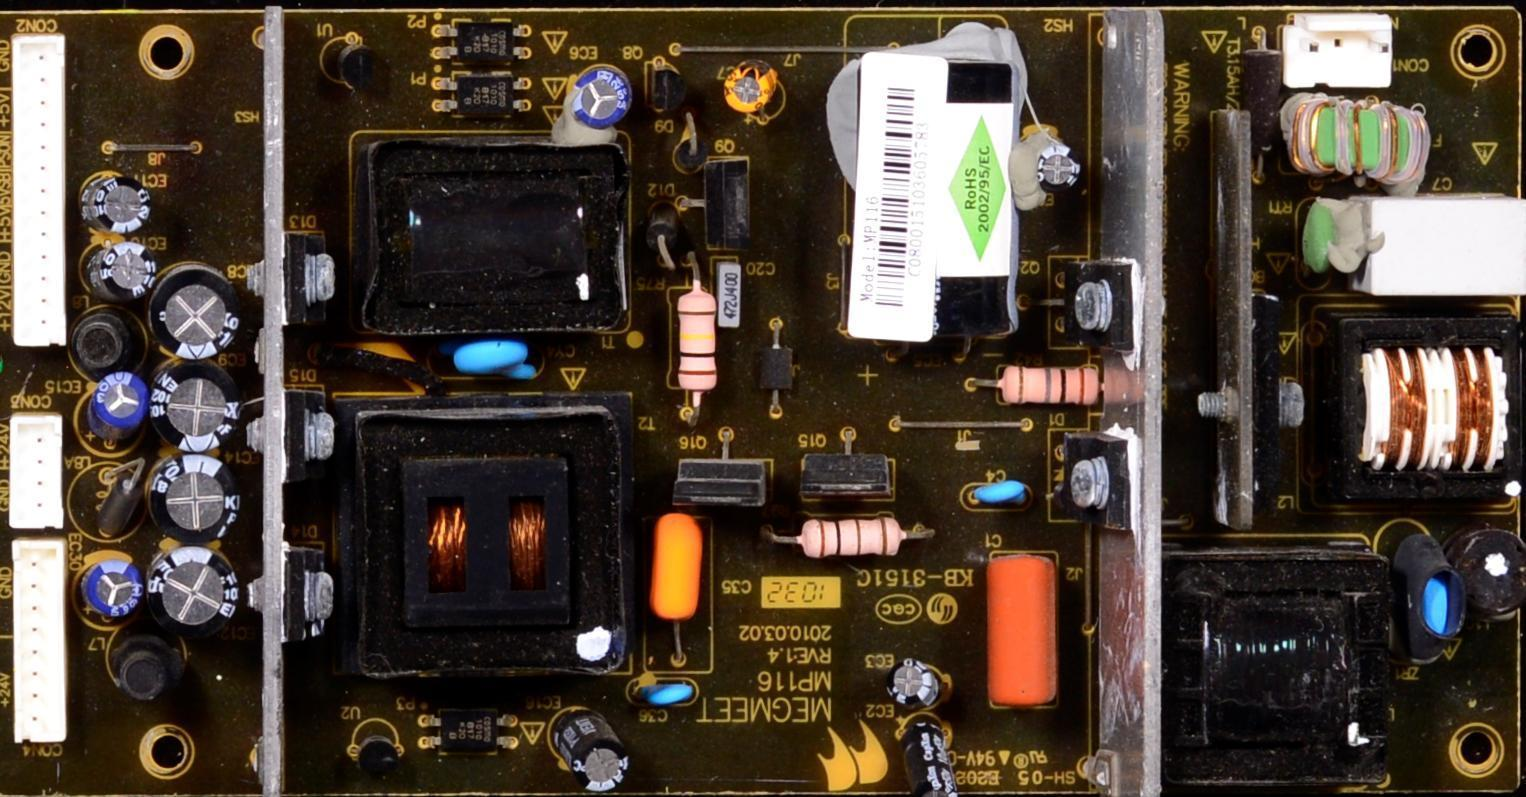Capacitor Jumper: (639, 511, 714, 674), (153, 361, 245, 455), (155, 266, 241, 360), (153, 461, 246, 543), (154, 549, 240, 637), (558, 708, 625, 797), (570, 68, 636, 135), (91, 243, 160, 304), (87, 560, 145, 625), (445, 340, 535, 382), (90, 369, 153, 429), (89, 170, 148, 232), (722, 63, 772, 121), (712, 254, 746, 332), (629, 681, 699, 705)
Connector: (12, 33, 71, 349), (13, 540, 72, 744), (986, 553, 1062, 709), (1282, 16, 1394, 90), (11, 414, 68, 531), (963, 485, 1033, 507)
Resistor Jumper: (670, 277, 726, 404), (768, 522, 933, 560), (990, 370, 1109, 406)
Transistor: (849, 51, 1018, 343), (672, 459, 774, 508), (801, 452, 896, 501), (703, 161, 749, 248)
